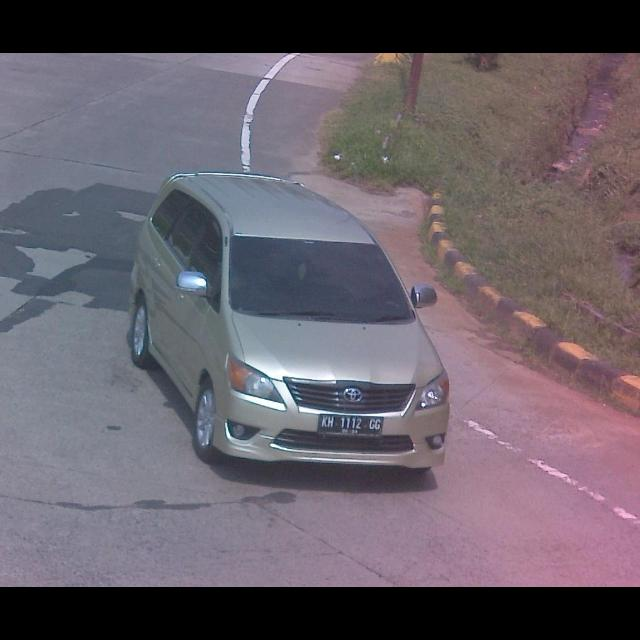plate: (317, 410, 383, 438)
